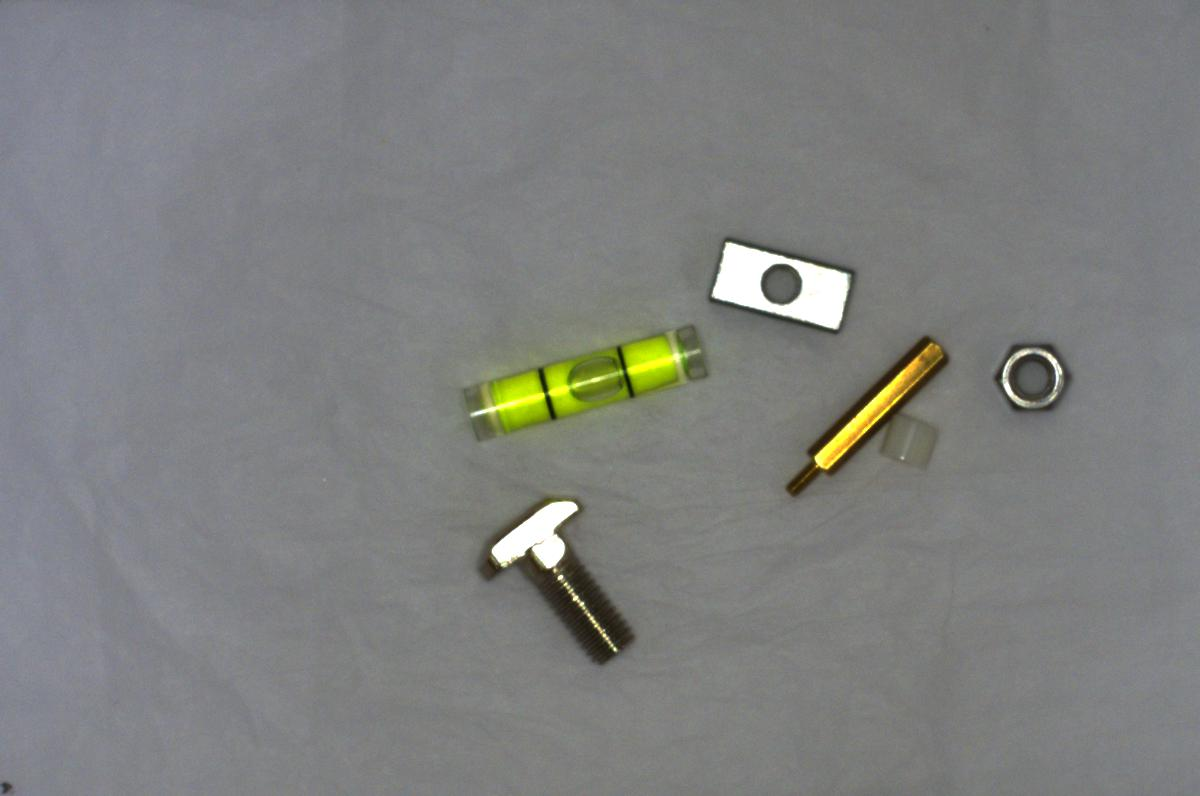Hexagon nut: (975, 331, 1079, 419)
Hexagon pillar: (774, 328, 964, 503)
Horizontal bubble: (448, 319, 719, 449)
Plastic cushion pillar: (870, 408, 947, 481)
Rectangular nut: (694, 230, 867, 337)
T-shaped screw: (479, 485, 641, 673)
